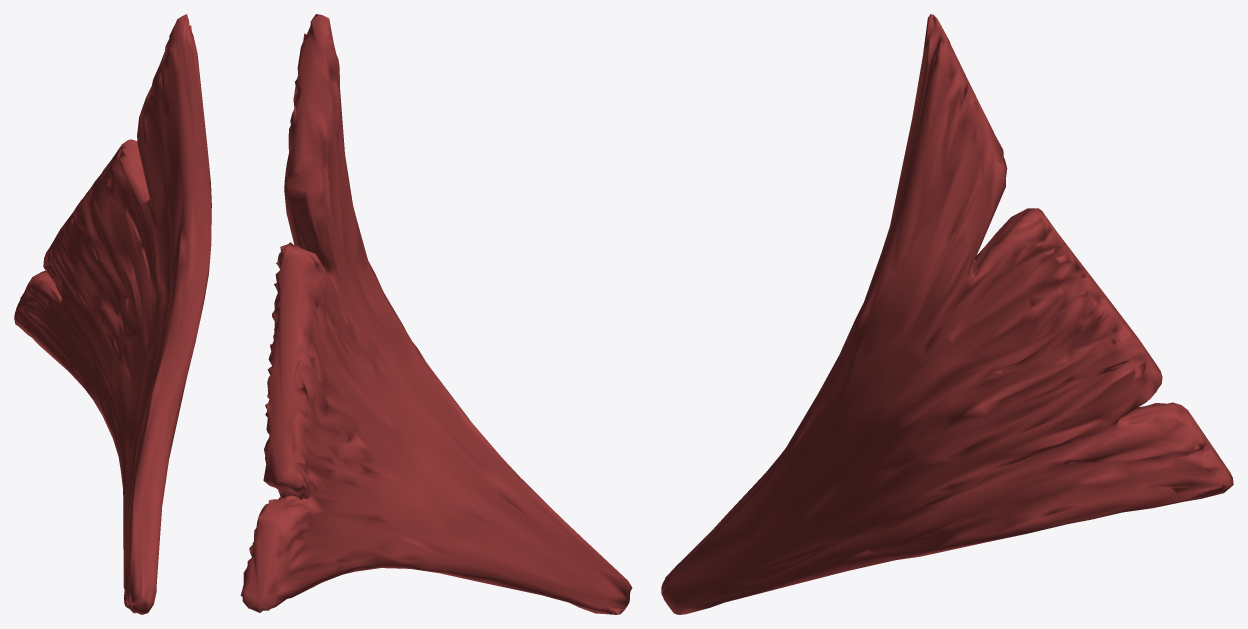
File: thyro-epiglottic-part-of-thyro-arytenoid-muscle-l.glb
3 views of the same model, side by side, from view 1: azimuth 30°, elevation 25°; view 2: azimuth 150°, elevation 25°; view 3: azimuth 270°, elevation 25° (orthographic). The views are drawn at different scales.
Parts seen in each view (by area): view 1: Thyro-epiglottic part of thyro-arytenoid muscle.l; view 2: Thyro-epiglottic part of thyro-arytenoid muscle.l; view 3: Thyro-epiglottic part of thyro-arytenoid muscle.l.
Boxes of the visible parts, x1,y1,x2,y2 form: Thyro-epiglottic part of thyro-arytenoid muscle.l: (14, 14, 211, 614); Thyro-epiglottic part of thyro-arytenoid muscle.l: (240, 14, 632, 614); Thyro-epiglottic part of thyro-arytenoid muscle.l: (661, 14, 1233, 614).
Size of the model in its own units: 0.00848 by 0.0249 by 0.0188.
